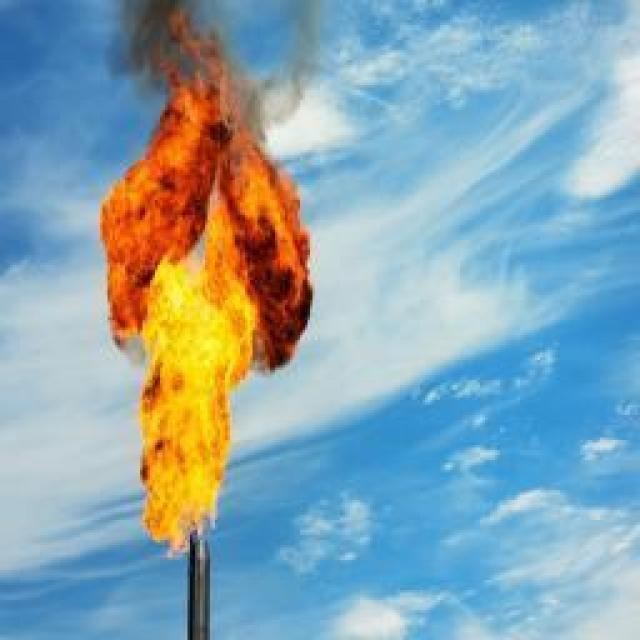fire: (97, 74, 312, 559)
smoke: (105, 0, 322, 162)
